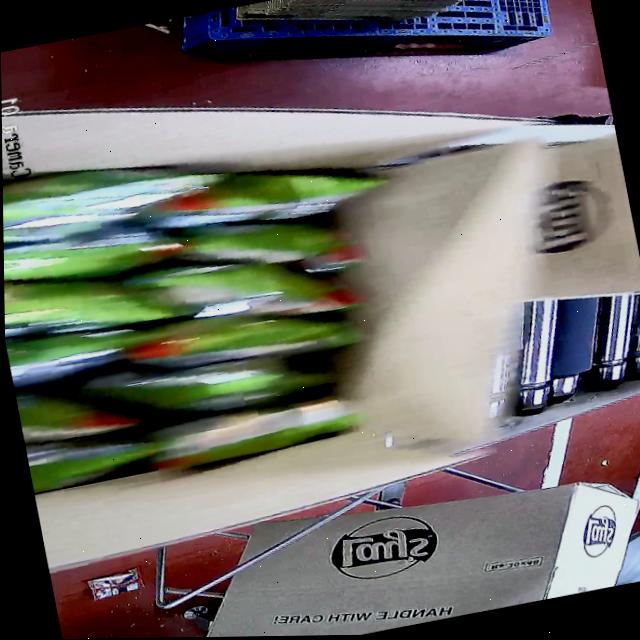YOGURT_HERB: (2, 127, 374, 500)
